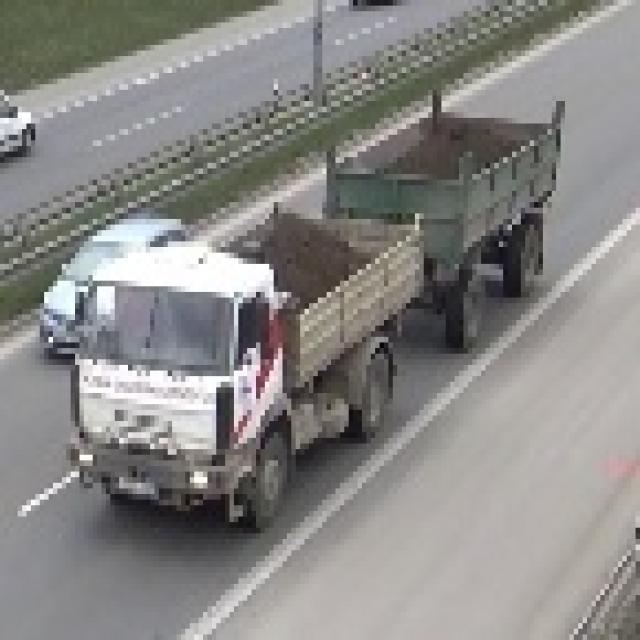truck: (66, 73, 561, 528)
